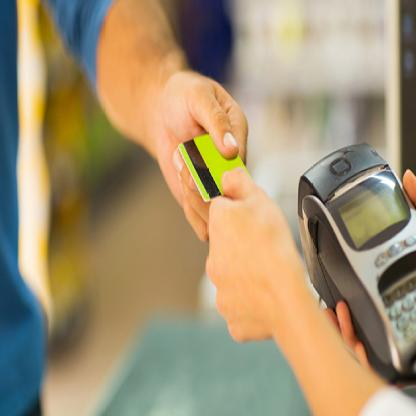tarjeta: (177, 131, 254, 204)
